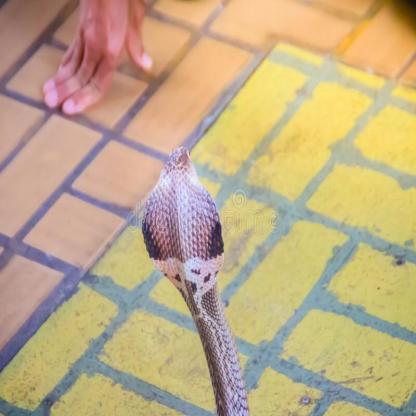Snake: (135, 142, 252, 416)
